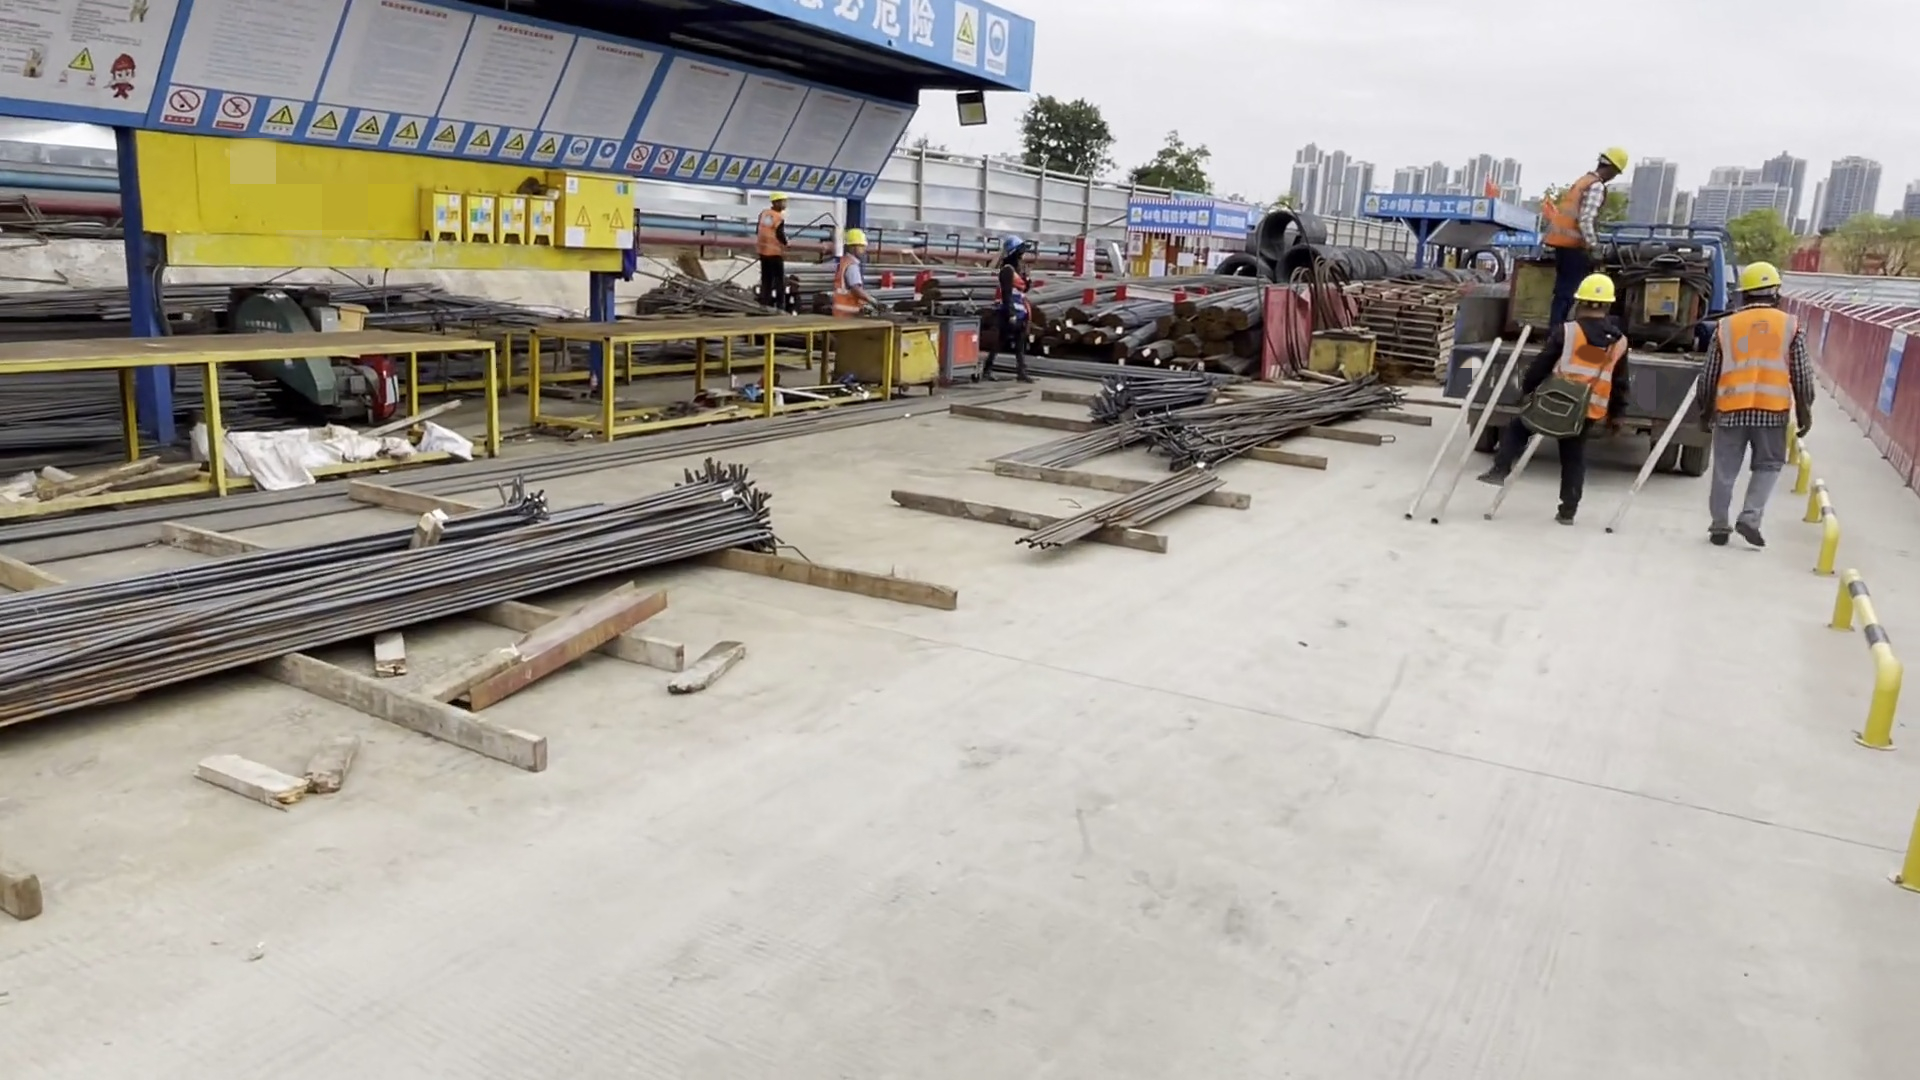ebox: (413, 168, 635, 247), (1641, 272, 1681, 321)
fence: (902, 149, 1101, 247), (1839, 317, 1920, 431)
helmet: (1575, 274, 1622, 304), (1734, 264, 1784, 292), (1601, 143, 1632, 171), (843, 224, 867, 245), (1002, 235, 1026, 251), (771, 190, 787, 201)
person: (1710, 252, 1811, 548), (1534, 273, 1628, 532), (1545, 146, 1623, 266), (990, 227, 1040, 383), (829, 220, 871, 382), (758, 187, 788, 306)
rebar: (1, 449, 770, 720), (1094, 371, 1403, 463)
slogan: (781, 1, 1019, 77), (1375, 189, 1493, 223), (1138, 203, 1222, 229), (1217, 211, 1255, 238)
vest: (1722, 306, 1802, 432), (1555, 322, 1618, 429), (1552, 182, 1606, 247), (994, 269, 1031, 321), (837, 256, 866, 316), (758, 212, 784, 257)
